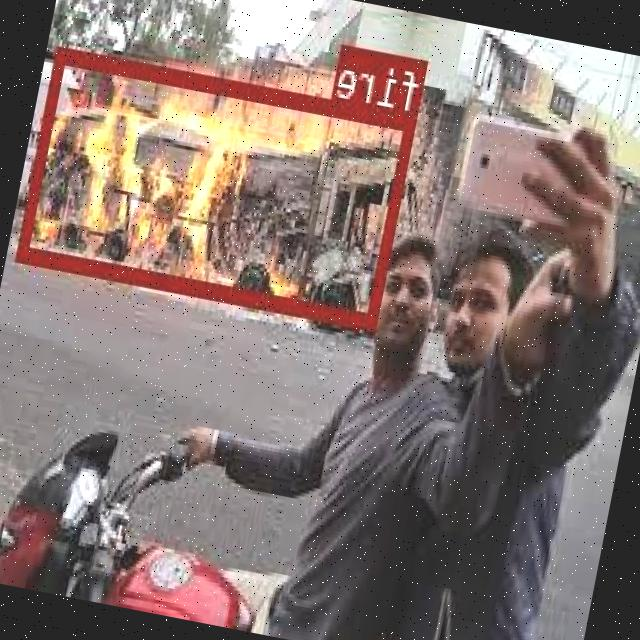fire: (19, 44, 419, 326)
